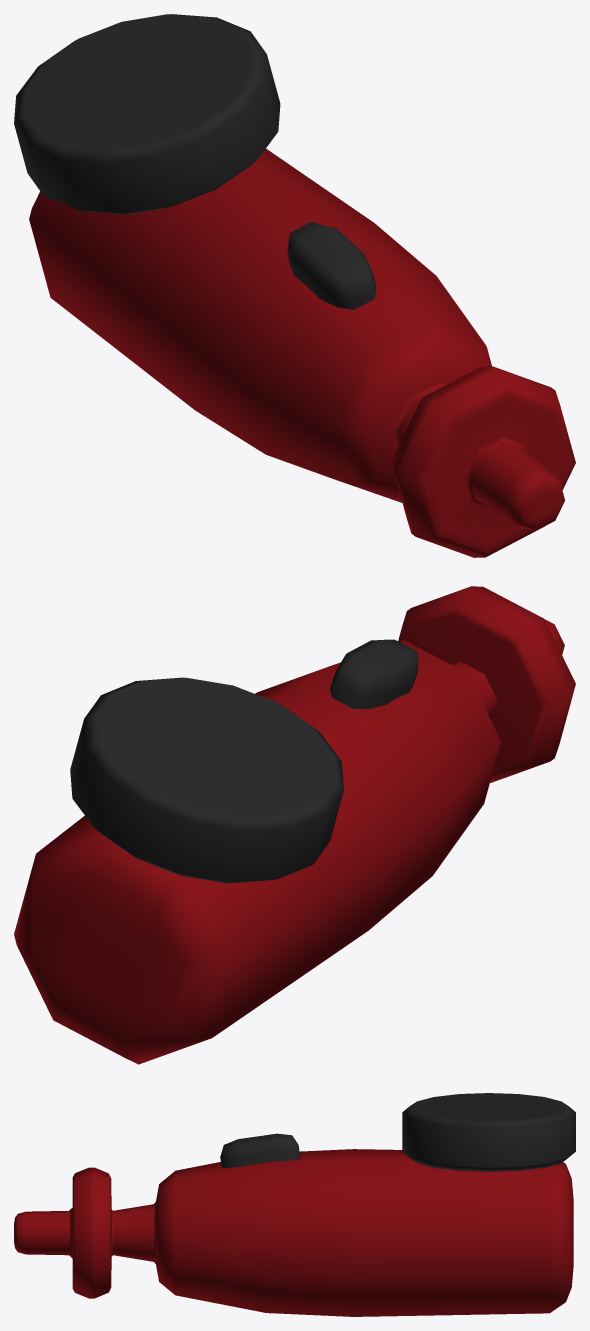
The model's file is Ship_enemy_11_Weapon_R.fbx.
3 renders of one model, top to bottom at view 1: azimuth 30°, elevation 25°; view 2: azimuth 150°, elevation 25°; view 3: azimuth 270°, elevation 25°, orthographic. The views are drawn at different scales.
Visible parts, largest first — view 1: Ship_enemy_11_Weapon_R; view 2: Ship_enemy_11_Weapon_R; view 3: Ship_enemy_11_Weapon_R.
Boxes of the visible parts, x1,y1,x2,y2 form: Ship_enemy_11_Weapon_R: (14, 14, 575, 557); Ship_enemy_11_Weapon_R: (14, 586, 575, 1064); Ship_enemy_11_Weapon_R: (14, 1093, 575, 1316).
Size of the model in its own units: 81.45 by 93.1 by 228.
